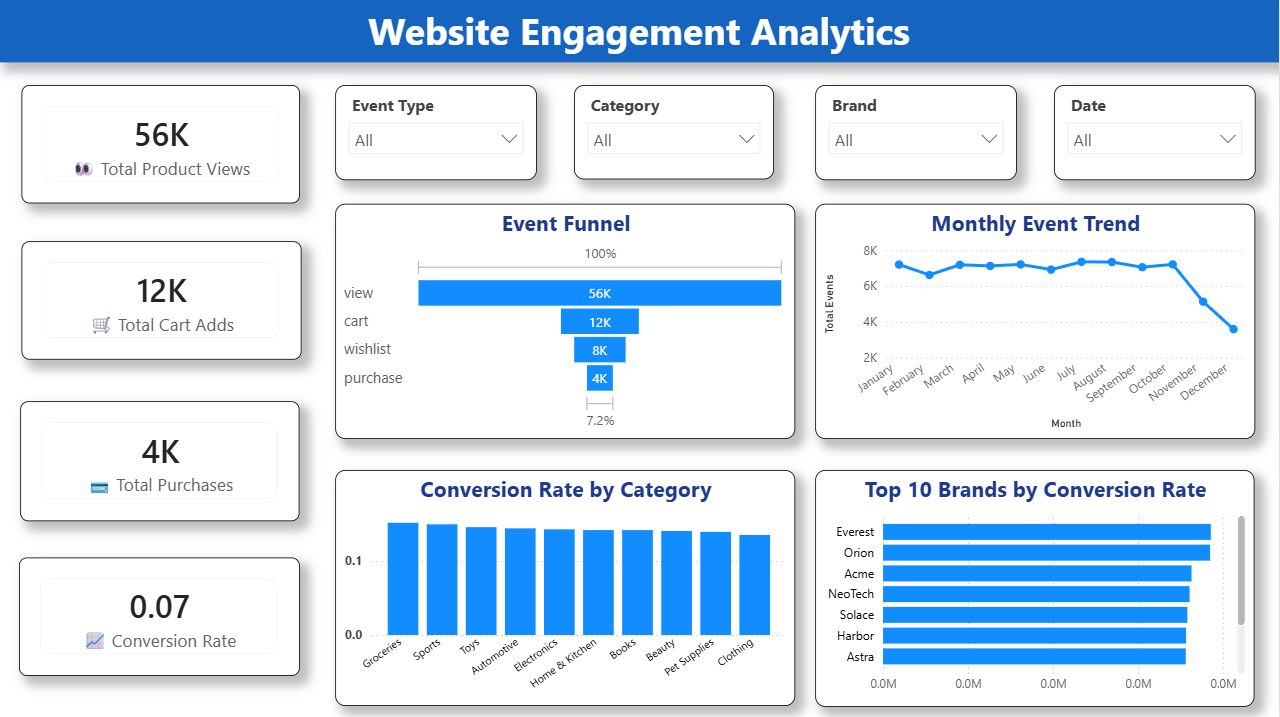

The page's visual inventory and layout, read from the dashboard file:
{"tool":"powerbi","page":{"name":"Website Engagement Analytics","canvas":[1280,720],"ordinal":3},"visuals":[{"type":"textbox","box":[0,0,1280,62.7],"z":0},{"type":"cardVisual","fields":{"Data":["events.Total Views"]},"box":[22.9,84.5,278.7,118.2],"z":1000},{"type":"cardVisual","fields":{"Data":["events.Total Cart Adds"]},"box":[22.9,241.3,279.9,118.2],"z":2000},{"type":"cardVisual","fields":{"Data":["events.Conversion Rate"]},"box":[20,557.8,280.8,118.5],"z":3000},{"type":"cardVisual","fields":{"Data":["events.Total Purchases"]},"box":[21.2,401.8,279.5,119.8],"z":4000},{"type":"slicer","fields":{"Values":["events.event_type"]},"box":[336.6,84.5,201.5,95.3],"z":5000},{"type":"slicer","fields":{"Values":["products.category"]},"box":[575.5,84.5,200.3,94.1],"z":6000},{"type":"slicer","fields":{"Values":["products.brand"]},"box":[816.8,84.5,201.5,95.3],"z":7000},{"type":"slicer","fields":{"Values":["events.event_timestamp"]},"box":[1054.4,84.5,201.5,95.3],"z":8000},{"type":"funnel","title":"Event Funnel","fields":{"Category":["events.event_type"],"Y":["events.Total Events"]},"box":[336.7,203.5,460.3,235],"z":9000},{"type":"lineChart","title":"Monthly Event Trend  ","fields":{"Category":["events.event_timestamp.Variation.Date Hierarchy.Month"],"Y":["events.Total Events"]},"box":[816.4,203.5,439.7,235],"z":10000},{"type":"clusteredColumnChart","title":"Conversion Rate by Category","fields":{"Category":["products.category"],"Y":["events.Conversion Rate"]},"box":[336.7,469.9,460.3,236.2],"z":11000},{"type":"clusteredBarChart","title":"Top 10 Brands by Conversion Rate","fields":{"Category":["products.brand"],"Y":["events.Conversion Rate"]},"box":[816.8,470.5,439.1,236.5],"z":12000}]}

Visuals, with their boxes in screenshot pixels (x1, y1, x2, y2), scaled from the page's 1280x720 canvas onto the 1280x717 screenshot:
textbox: bbox(0, 0, 1279, 62)
cardVisual - events.Total Views: bbox(23, 84, 302, 202)
cardVisual - events.Total Cart Adds: bbox(23, 240, 303, 358)
cardVisual - events.Conversion Rate: bbox(20, 555, 301, 673)
cardVisual - events.Total Purchases: bbox(21, 400, 301, 519)
slicer - events.event_type: bbox(337, 84, 538, 179)
slicer - products.category: bbox(576, 84, 776, 178)
slicer - products.brand: bbox(817, 84, 1018, 179)
slicer - events.event_timestamp: bbox(1054, 84, 1256, 179)
"Event Funnel" funnel: bbox(337, 203, 797, 437)
"Monthly Event Trend  " lineChart: bbox(816, 203, 1256, 437)
"Conversion Rate by Category" clusteredColumnChart: bbox(337, 468, 797, 703)
"Top 10 Brands by Conversion Rate" clusteredBarChart: bbox(817, 469, 1256, 704)
